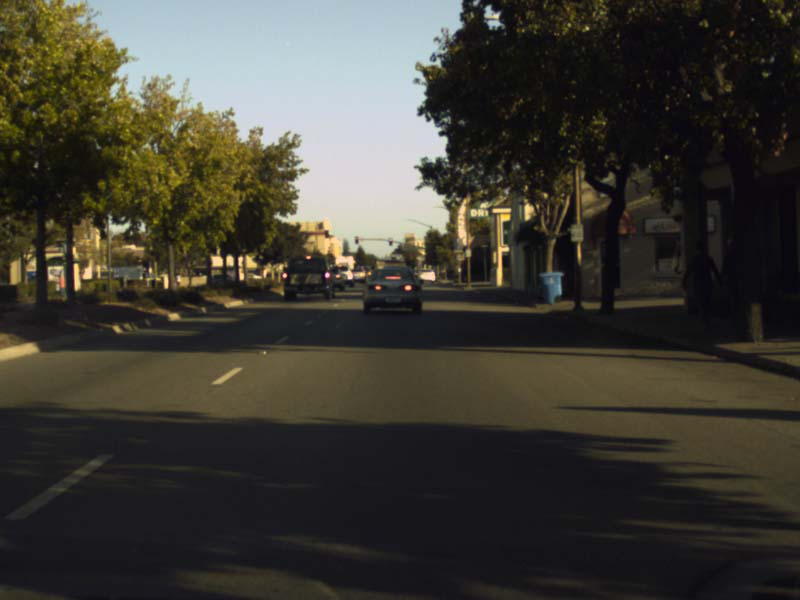Red: (388, 237, 392, 245)
